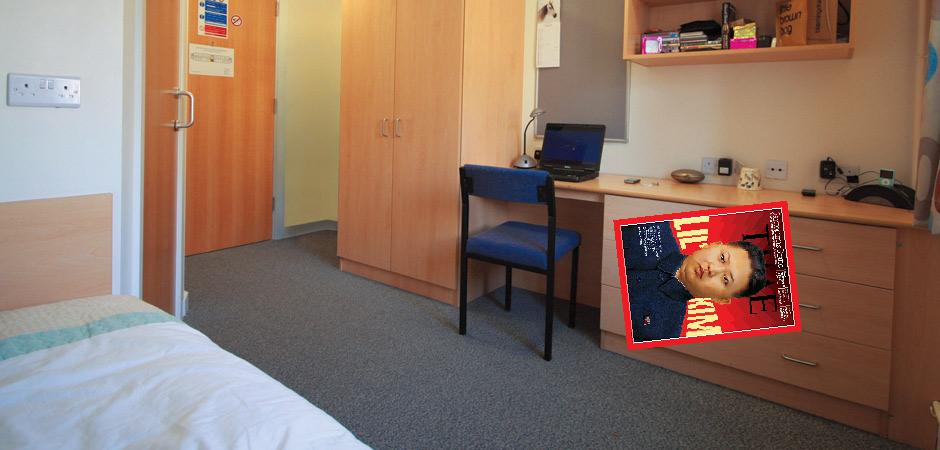times: (611, 199, 804, 357)
